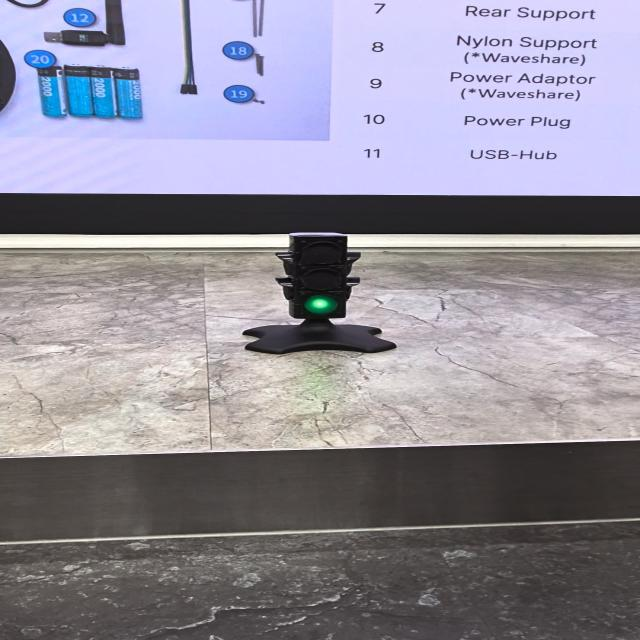green_light: (304, 296, 338, 314)
